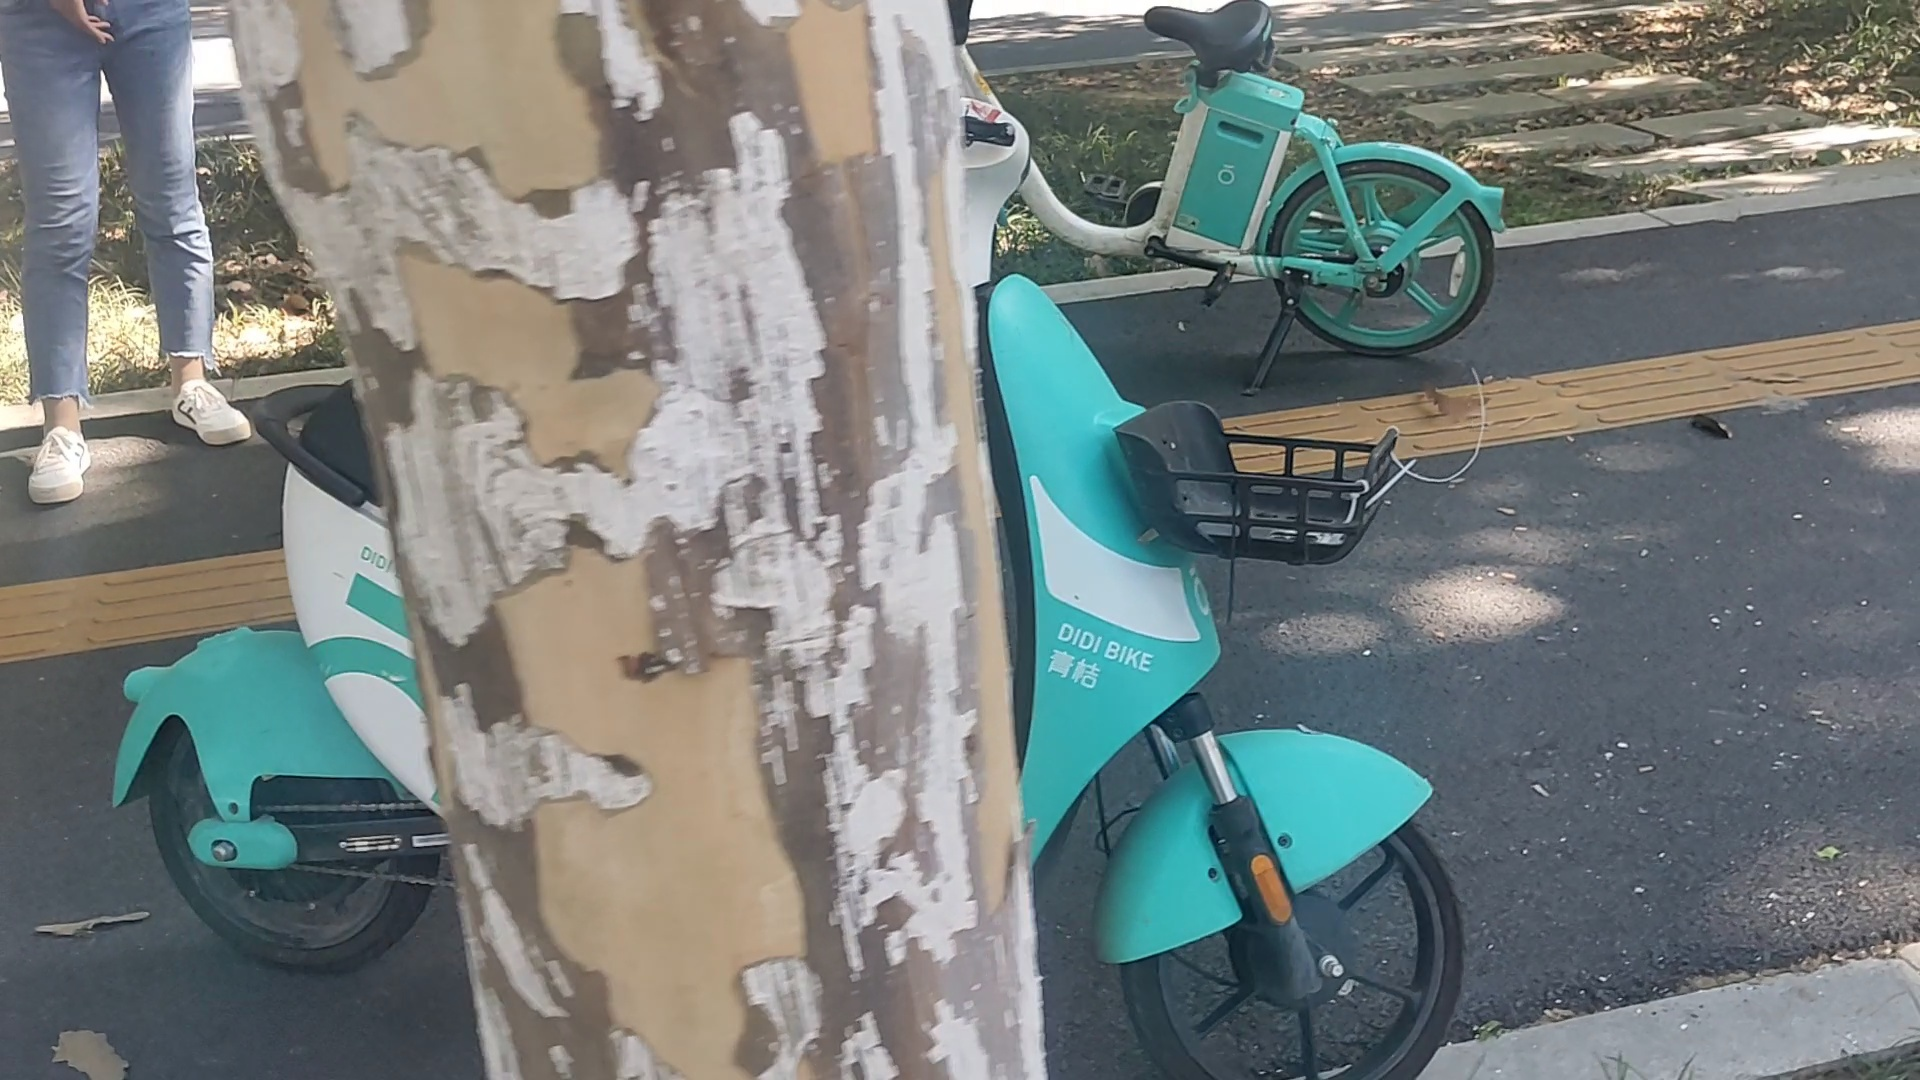non-vehicle: (105, 62, 1487, 1067), (963, 1, 1509, 357)
